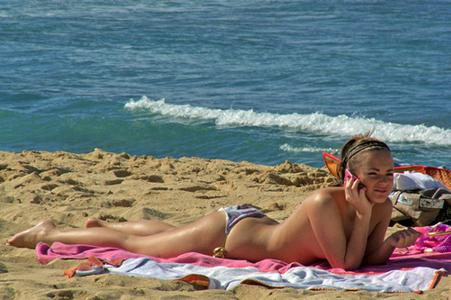person: (9, 137, 423, 271)
